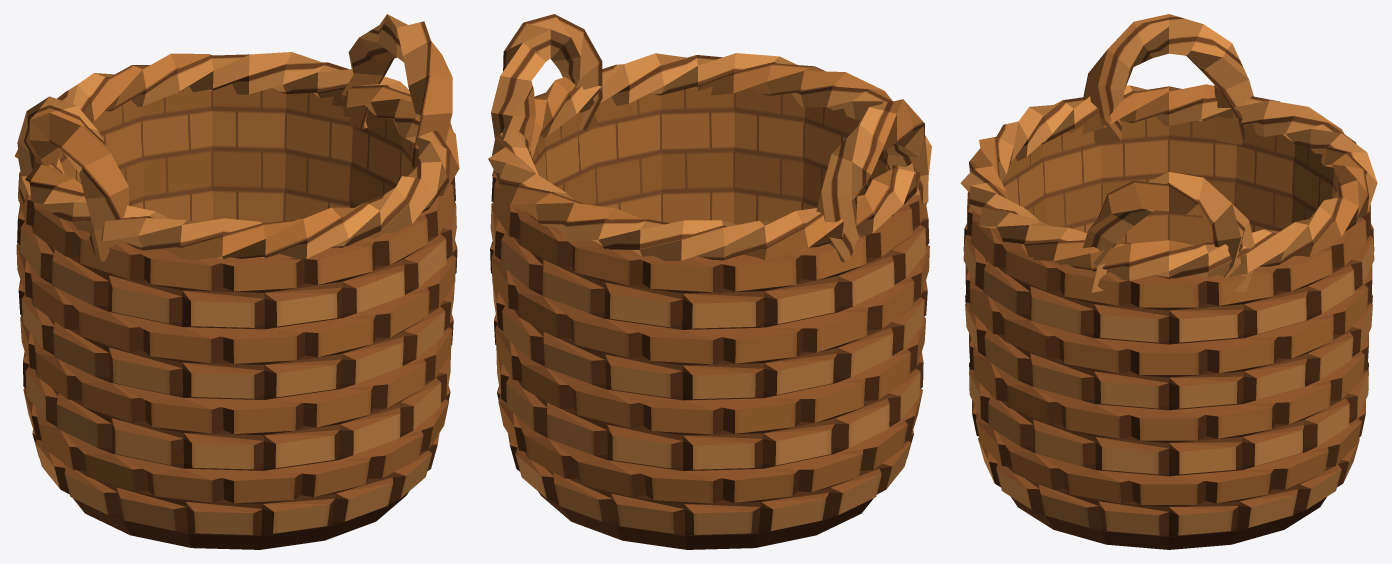
File: FMS_Crate_Basket_Large.fbx
3 views of the same model, side by side, from view 1: azimuth 30°, elevation 25°; view 2: azimuth 150°, elevation 25°; view 3: azimuth 270°, elevation 25° (orthographic). The views are drawn at different scales.
Visible parts, largest first — view 1: item_stalls_basket_large_v2; view 2: item_stalls_basket_large_v2; view 3: item_stalls_basket_large_v2.
Boxes of the visible parts, <box> form: item_stalls_basket_large_v2: <box>14,14,459,549</box>; item_stalls_basket_large_v2: <box>488,14,931,549</box>; item_stalls_basket_large_v2: <box>960,14,1377,549</box>.
Size of the model in its own units: 0.4191 by 0.423 by 0.4191.
